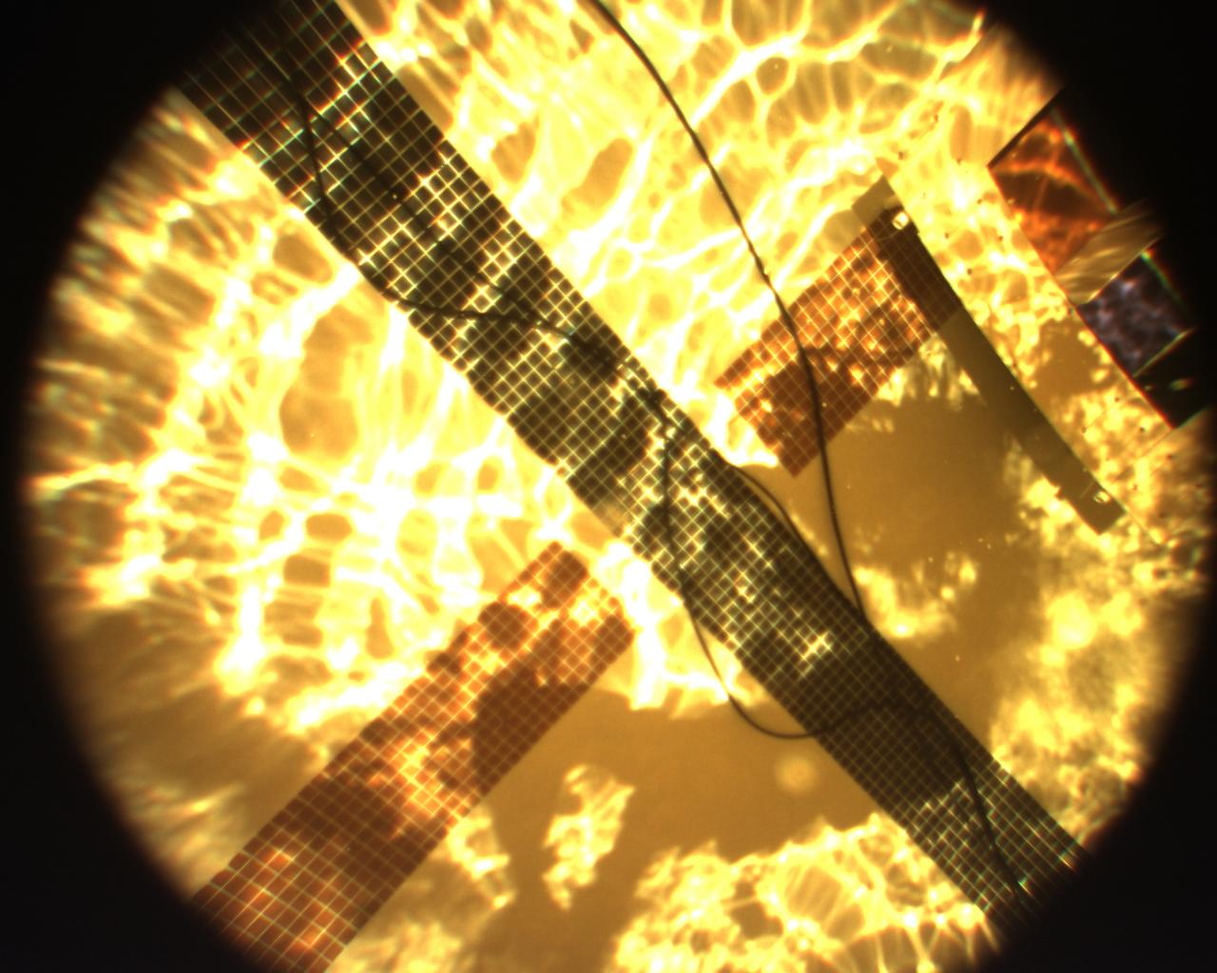dropper-box-top: (877, 14, 1217, 500)
